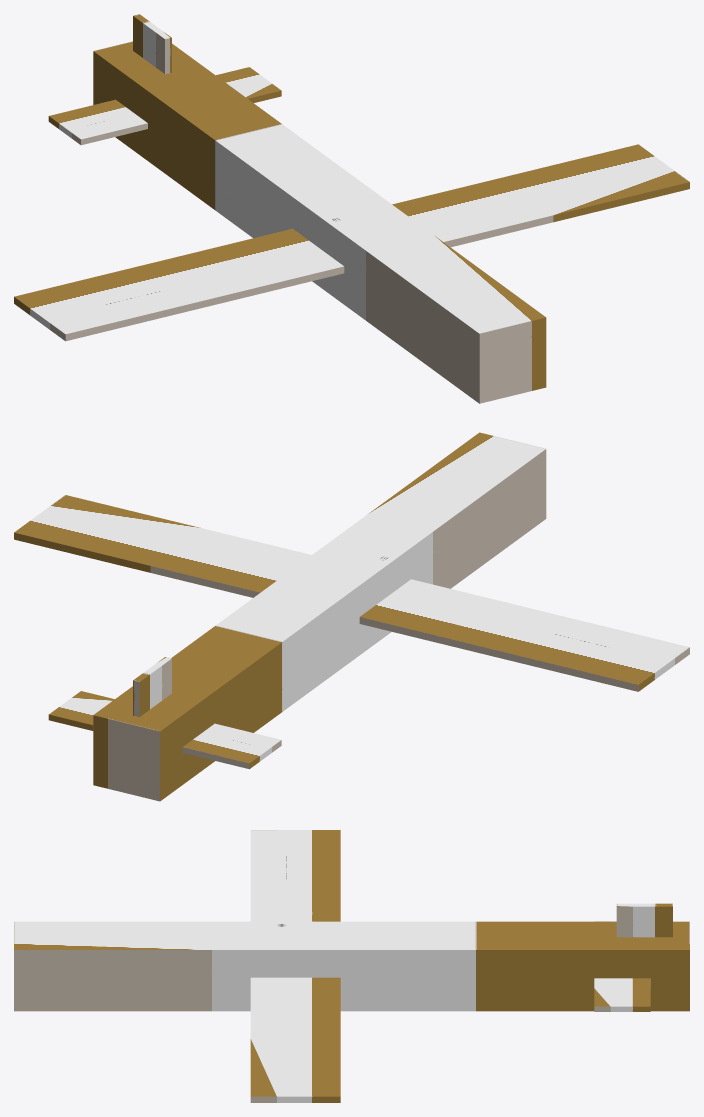
File: airliner.dae
3 renders of one model, top to bottom at view 1: azimuth 30°, elevation 25°; view 2: azimuth 150°, elevation 25°; view 3: azimuth 270°, elevation 25°, orthographic. The views are drawn at different scales.
Visible parts, largest first — view 1: AirlinerRoot (×4); view 2: AirlinerRoot (×4); view 3: AirlinerRoot (×4).
Part boxes in pixels (box(x1,y1,x2,y2)): AirlinerRoot (×4): box(14, 14, 689, 403); AirlinerRoot (×4): box(14, 432, 689, 801); AirlinerRoot (×4): box(14, 830, 689, 1102).
Bounding box in the file's own units: 56 × 9 × 60.
Materials: 1 (1 with a texture image).
